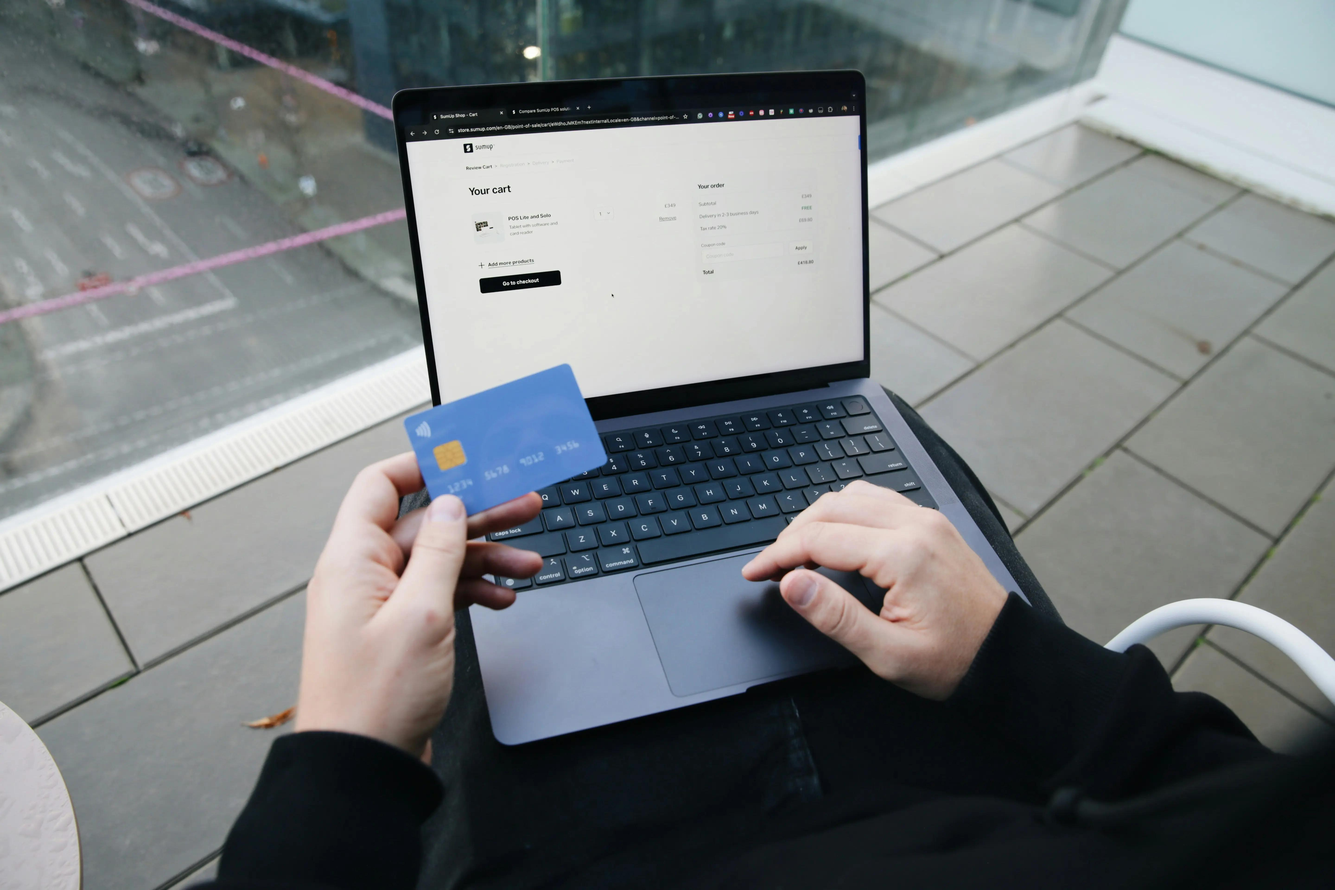Credit_card: (404, 363, 607, 516)
